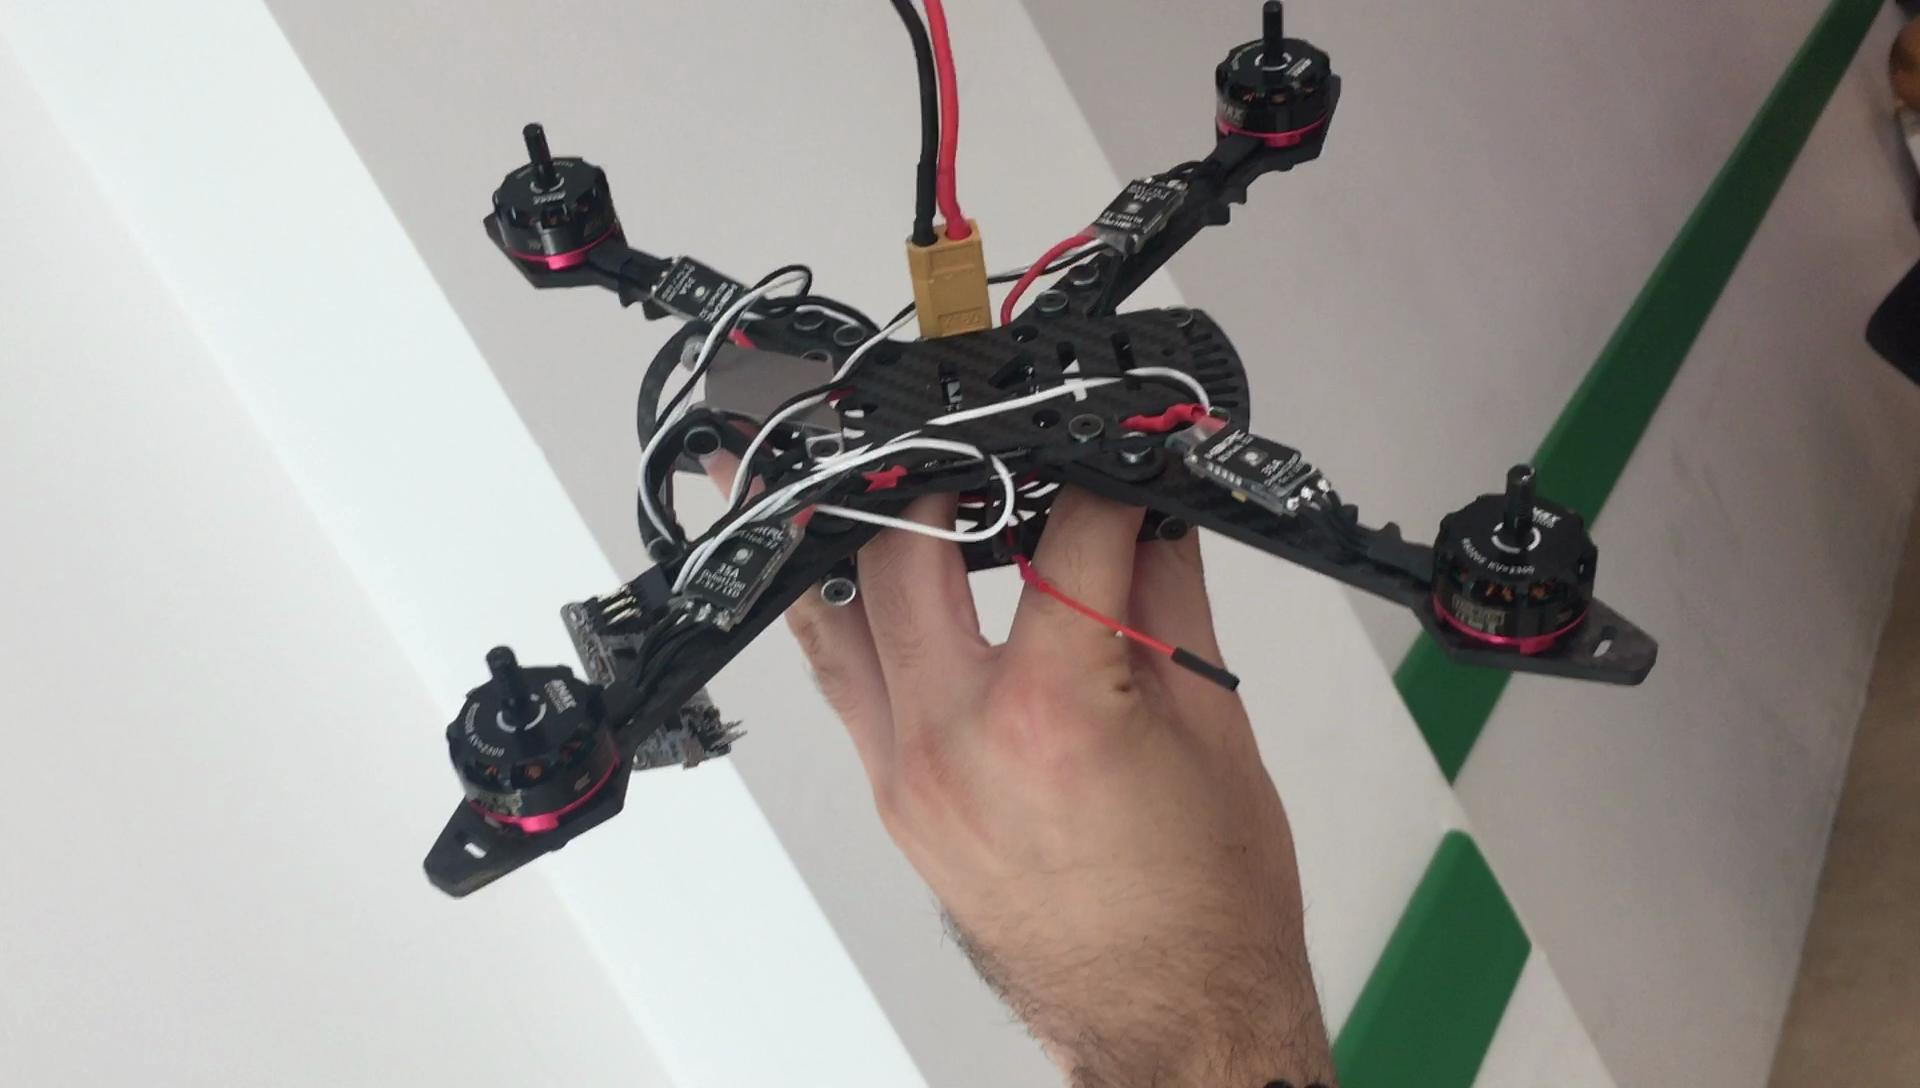drone: (433, 15, 1662, 902)
